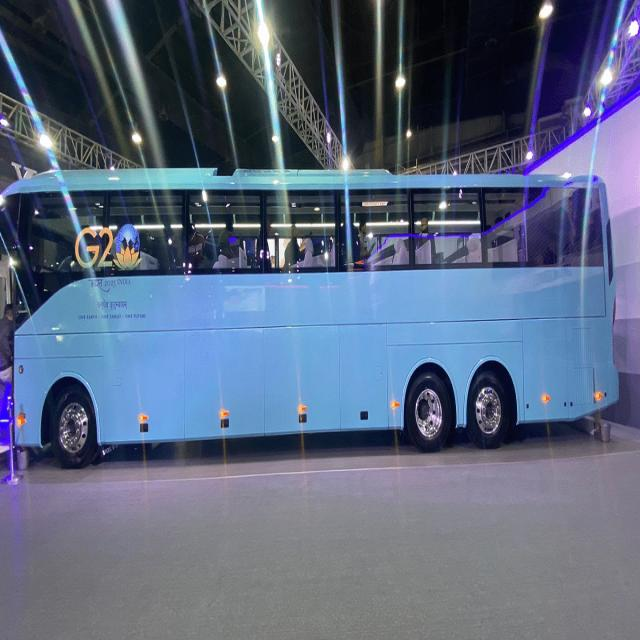bus: (0, 169, 619, 466)
